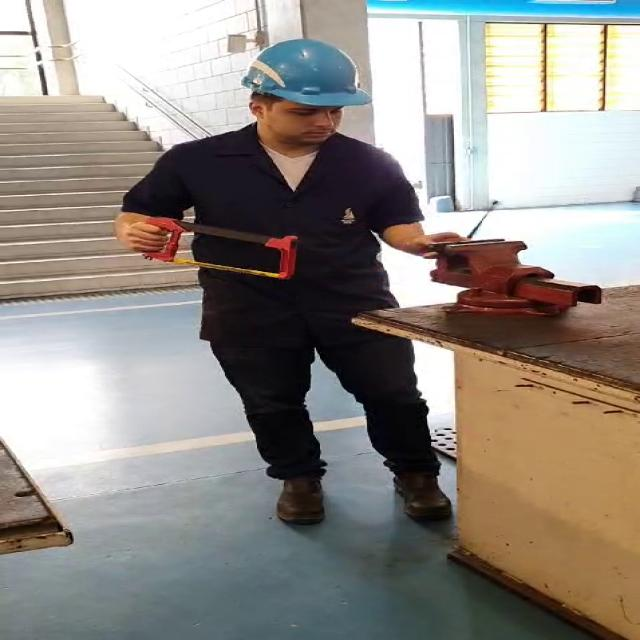sem_oculos: (254, 95, 360, 123)
